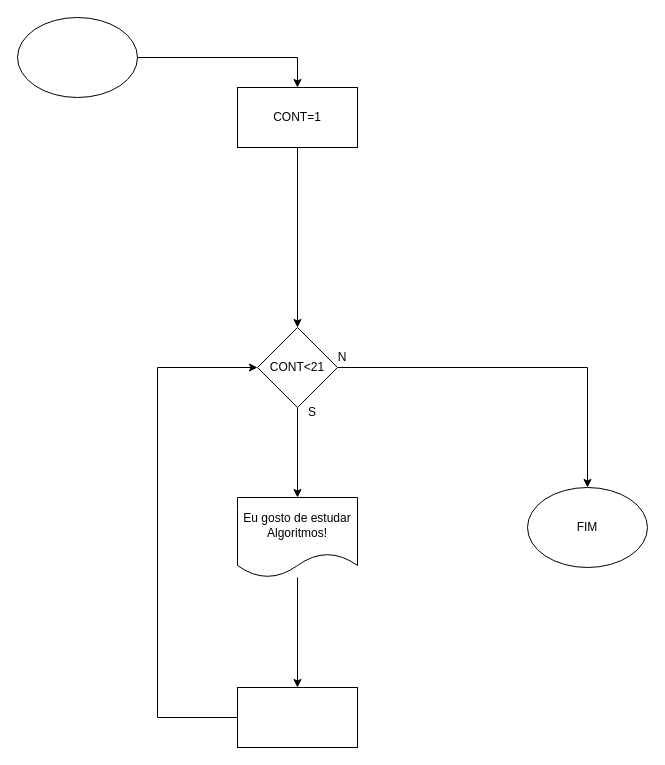
This 665x765 diagram has some shape labels left out. The shapes that lost their labels are listed below. From the top down, each one's centre as x and y in pixels, then its label:
(x=77, y=57): INICIO
(x=297, y=717): CONT+=1
